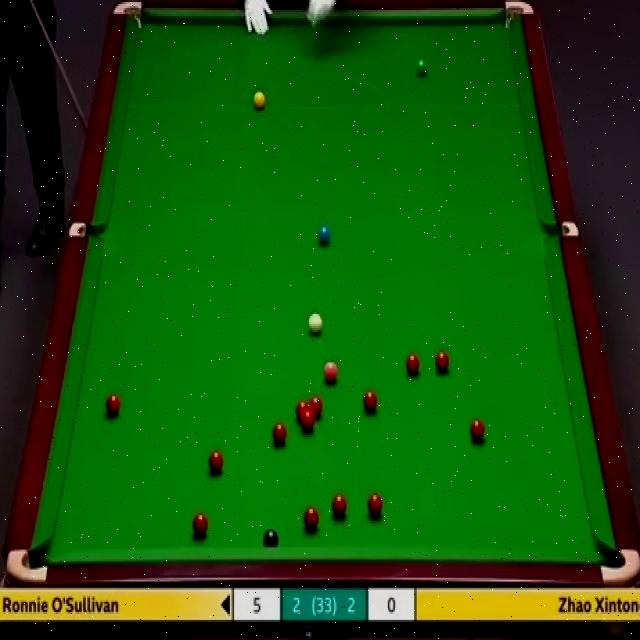black-ball: (263, 529, 279, 548)
blue-ball: (316, 221, 331, 247)
green-ball: (413, 59, 429, 78)
pink-ball: (323, 357, 339, 384)
red-ball: (105, 392, 123, 420), (404, 351, 421, 380), (468, 421, 486, 446), (192, 512, 209, 538), (208, 449, 224, 476), (367, 492, 383, 518), (362, 389, 377, 415), (434, 352, 450, 376), (304, 506, 319, 531), (332, 494, 347, 519), (272, 422, 287, 446), (310, 396, 324, 421), (296, 400, 309, 421), (302, 412, 314, 432)
white-ball: (307, 312, 324, 337)
yellow-ball: (252, 90, 266, 110)
